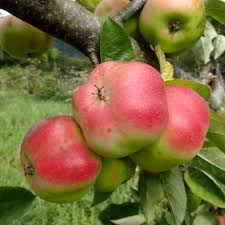apple: (75, 61, 164, 154), (14, 114, 101, 204), (131, 86, 208, 170), (140, 2, 207, 53)
